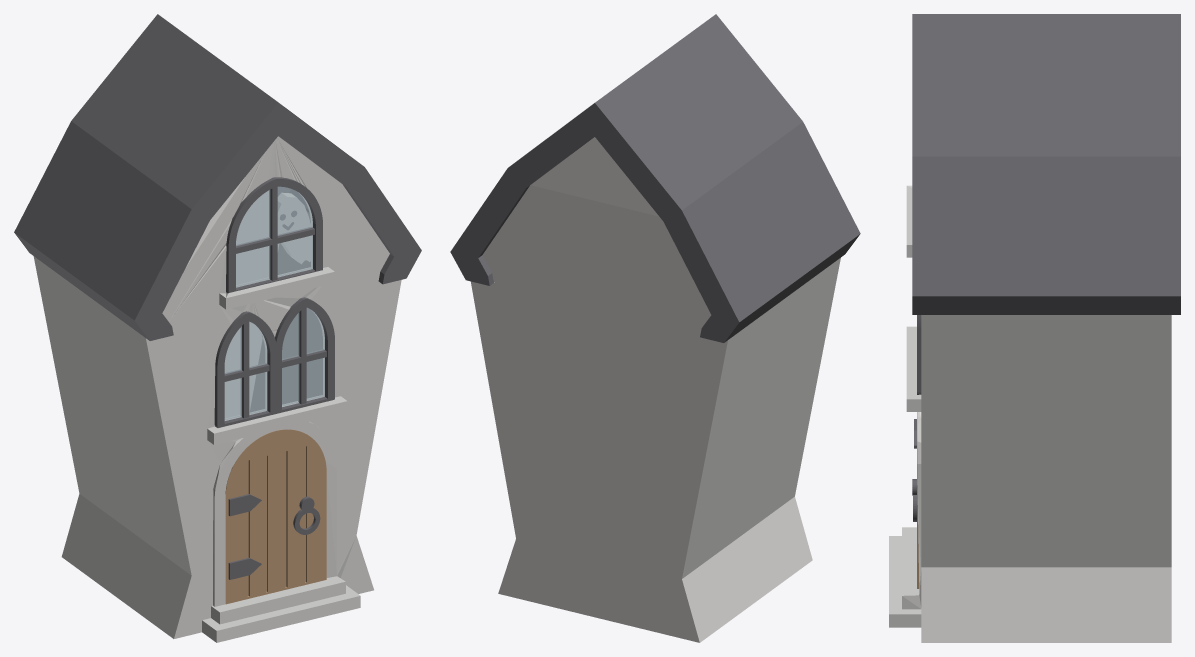
The model's file is halloween-house-preview.glb.
3 views of the same model, side by side, from view 1: azimuth 30°, elevation 25°; view 2: azimuth 150°, elevation 25°; view 3: azimuth 270°, elevation 25° (orthographic). The views are drawn at different scales.
Parts seen in each view (by area): view 1: white, black, brown, clear; view 2: white, black; view 3: white, black.
Part boxes in pixels (x1,y1,x2,y2): white: (33, 136, 401, 642); black: (14, 14, 421, 579); brown: (225, 429, 326, 604); clear: (224, 186, 324, 420); white: (470, 137, 840, 642); black: (450, 14, 860, 342); white: (889, 185, 1171, 642); black: (912, 14, 1180, 521).
Bounding box in the file's own units: 79.8 × 137 × 63.
